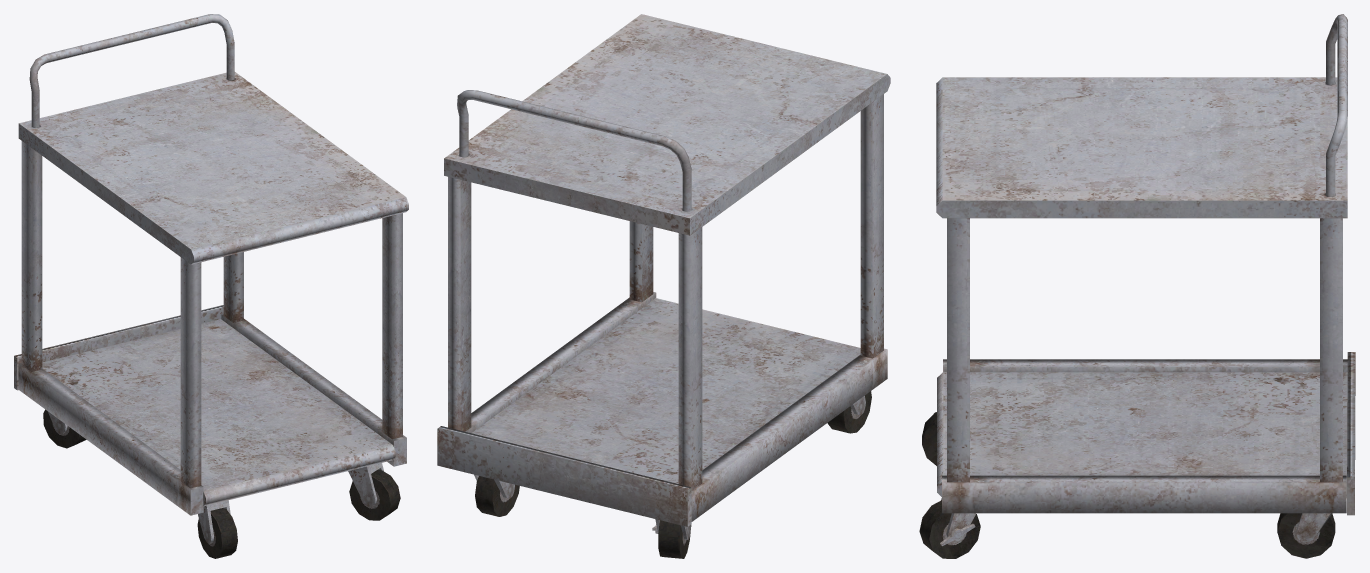
Rendered from 087_ShelfCart.fbx.
The picture shows the model from 3 angles, left to right: view 1: azimuth 30°, elevation 25°; view 2: azimuth 150°, elevation 25°; view 3: azimuth 270°, elevation 25°; orthographic projection. The views are drawn at different scales.
Parts seen in each view (by area): view 1: LOD_1_Group_0_Sub_1__sm30_087_ShelfCart01A_A_Mat, LOD_1_Group_1_Sub_1__sm30_087_ShelfCart01A_A_Mat, LOD_1_Group_3_Sub_1__sm30_087_ShelfCart01A_A_Mat, LOD_1_Group_7_Sub_1__sm30_087_ShelfCart01A_A_Mat, LOD_1_Group_8_Sub_1__sm30_087_ShelfCart01A_A_Mat, LOD_1_Group_5_Sub_1__sm30_087_ShelfCart01A_A_Mat, LOD_1_Group_4_Sub_1__sm30_087_ShelfCart01A_A_Mat, LOD_1_Group_2_Sub_1__sm30_087_ShelfCart01A_A_Mat, LOD_1_Group_9_Sub_1__sm30_087_ShelfCart01A_A_Mat, LOD_1_Group_17_Sub_1__sm30_087_ShelfCart01A_A_Mat, LOD_1_Group_6_Sub_1__sm30_087_ShelfCart01A_A_Mat, LOD_1_Group_18_Sub_1__sm30_087_ShelfCart01A_A_Mat (+3 smaller); view 2: LOD_1_Group_0_Sub_1__sm30_087_ShelfCart01A_A_Mat, LOD_1_Group_1_Sub_1__sm30_087_ShelfCart01A_A_Mat, LOD_1_Group_9_Sub_1__sm30_087_ShelfCart01A_A_Mat, LOD_1_Group_3_Sub_1__sm30_087_ShelfCart01A_A_Mat, LOD_1_Group_8_Sub_1__sm30_087_ShelfCart01A_A_Mat, LOD_1_Group_7_Sub_1__sm30_087_ShelfCart01A_A_Mat, LOD_1_Group_6_Sub_1__sm30_087_ShelfCart01A_A_Mat, LOD_1_Group_2_Sub_1__sm30_087_ShelfCart01A_A_Mat, LOD_1_Group_4_Sub_1__sm30_087_ShelfCart01A_A_Mat, LOD_1_Group_5_Sub_1__sm30_087_ShelfCart01A_A_Mat, LOD_1_Group_11_Sub_1__sm30_087_ShelfCart01A_A_Mat, LOD_1_Group_14_Sub_1__sm30_087_ShelfCart01A_A_Mat (+1 smaller); view 3: LOD_1_Group_0_Sub_1__sm30_087_ShelfCart01A_A_Mat, LOD_1_Group_1_Sub_1__sm30_087_ShelfCart01A_A_Mat, LOD_1_Group_4_Sub_1__sm30_087_ShelfCart01A_A_Mat, LOD_1_Group_5_Sub_1__sm30_087_ShelfCart01A_A_Mat, LOD_1_Group_6_Sub_1__sm30_087_ShelfCart01A_A_Mat, LOD_1_Group_3_Sub_1__sm30_087_ShelfCart01A_A_Mat, LOD_1_Group_2_Sub_1__sm30_087_ShelfCart01A_A_Mat, LOD_1_Group_17_Sub_1__sm30_087_ShelfCart01A_A_Mat, LOD_1_Group_11_Sub_1__sm30_087_ShelfCart01A_A_Mat, LOD_1_Group_9_Sub_1__sm30_087_ShelfCart01A_A_Mat, LOD_1_Group_10_Sub_1__sm30_087_ShelfCart01A_A_Mat, LOD_1_Group_18_Sub_1__sm30_087_ShelfCart01A_A_Mat.
Part boxes in pixels (box(x1,y1,x2,y2)): LOD_1_Group_0_Sub_1__sm30_087_ShelfCart01A_A_Mat: box(18, 72, 408, 264); LOD_1_Group_1_Sub_1__sm30_087_ShelfCart01A_A_Mat: box(42, 319, 395, 506); LOD_1_Group_3_Sub_1__sm30_087_ShelfCart01A_A_Mat: box(18, 363, 203, 515); LOD_1_Group_7_Sub_1__sm30_087_ShelfCart01A_A_Mat: box(180, 257, 201, 488); LOD_1_Group_8_Sub_1__sm30_087_ShelfCart01A_A_Mat: box(21, 141, 42, 371); LOD_1_Group_5_Sub_1__sm30_087_ShelfCart01A_A_Mat: box(382, 213, 402, 439); LOD_1_Group_4_Sub_1__sm30_087_ShelfCart01A_A_Mat: box(221, 314, 406, 466); LOD_1_Group_2_Sub_1__sm30_087_ShelfCart01A_A_Mat: box(29, 14, 234, 127); LOD_1_Group_9_Sub_1__sm30_087_ShelfCart01A_A_Mat: box(14, 305, 223, 390); LOD_1_Group_17_Sub_1__sm30_087_ShelfCart01A_A_Mat: box(349, 469, 400, 520); LOD_1_Group_6_Sub_1__sm30_087_ShelfCart01A_A_Mat: box(223, 252, 243, 322); LOD_1_Group_18_Sub_1__sm30_087_ShelfCart01A_A_Mat: box(197, 508, 237, 558); LOD_1_Group_0_Sub_1__sm30_087_ShelfCart01A_A_Mat: box(444, 14, 890, 235); LOD_1_Group_1_Sub_1__sm30_087_ShelfCart01A_A_Mat: box(471, 298, 860, 483); LOD_1_Group_9_Sub_1__sm30_087_ShelfCart01A_A_Mat: box(437, 426, 691, 526); LOD_1_Group_3_Sub_1__sm30_087_ShelfCart01A_A_Mat: box(691, 348, 887, 521); LOD_1_Group_8_Sub_1__sm30_087_ShelfCart01A_A_Mat: box(678, 227, 702, 490); LOD_1_Group_7_Sub_1__sm30_087_ShelfCart01A_A_Mat: box(860, 94, 883, 358); LOD_1_Group_6_Sub_1__sm30_087_ShelfCart01A_A_Mat: box(448, 177, 471, 431); LOD_1_Group_2_Sub_1__sm30_087_ShelfCart01A_A_Mat: box(457, 90, 691, 211); LOD_1_Group_4_Sub_1__sm30_087_ShelfCart01A_A_Mat: box(465, 292, 656, 432); LOD_1_Group_5_Sub_1__sm30_087_ShelfCart01A_A_Mat: box(629, 221, 653, 302); LOD_1_Group_11_Sub_1__sm30_087_ShelfCart01A_A_Mat: box(475, 476, 519, 516); LOD_1_Group_14_Sub_1__sm30_087_ShelfCart01A_A_Mat: box(658, 520, 691, 558); LOD_1_Group_0_Sub_1__sm30_087_ShelfCart01A_A_Mat: box(936, 77, 1347, 218); LOD_1_Group_1_Sub_1__sm30_087_ShelfCart01A_A_Mat: box(937, 372, 1347, 497); LOD_1_Group_4_Sub_1__sm30_087_ShelfCart01A_A_Mat: box(942, 475, 1346, 513); LOD_1_Group_5_Sub_1__sm30_087_ShelfCart01A_A_Mat: box(947, 218, 969, 482); LOD_1_Group_6_Sub_1__sm30_087_ShelfCart01A_A_Mat: box(1320, 218, 1342, 482); LOD_1_Group_3_Sub_1__sm30_087_ShelfCart01A_A_Mat: box(943, 359, 1347, 372); LOD_1_Group_2_Sub_1__sm30_087_ShelfCart01A_A_Mat: box(1326, 14, 1347, 196); LOD_1_Group_17_Sub_1__sm30_087_ShelfCart01A_A_Mat: box(919, 500, 980, 558); LOD_1_Group_11_Sub_1__sm30_087_ShelfCart01A_A_Mat: box(1277, 513, 1335, 558); LOD_1_Group_9_Sub_1__sm30_087_ShelfCart01A_A_Mat: box(1347, 352, 1355, 515); LOD_1_Group_10_Sub_1__sm30_087_ShelfCart01A_A_Mat: box(1296, 513, 1331, 542); LOD_1_Group_18_Sub_1__sm30_087_ShelfCart01A_A_Mat: box(922, 412, 936, 465).
Size of the model in its own units: 0.6671 by 1.1 by 0.9796.
